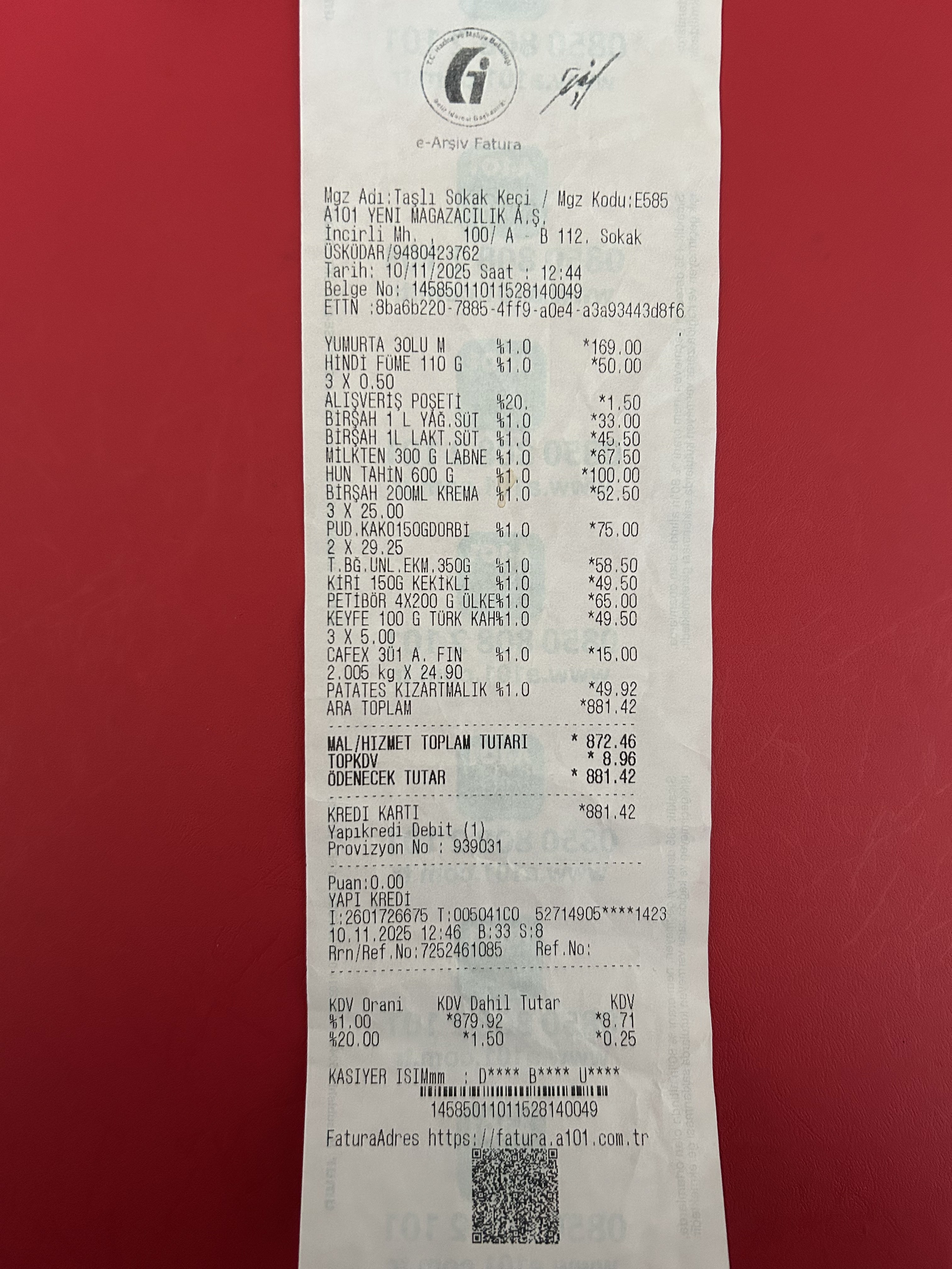date: (382, 261, 471, 280)
price: (581, 766, 643, 790)
workplace: (315, 182, 676, 248)
